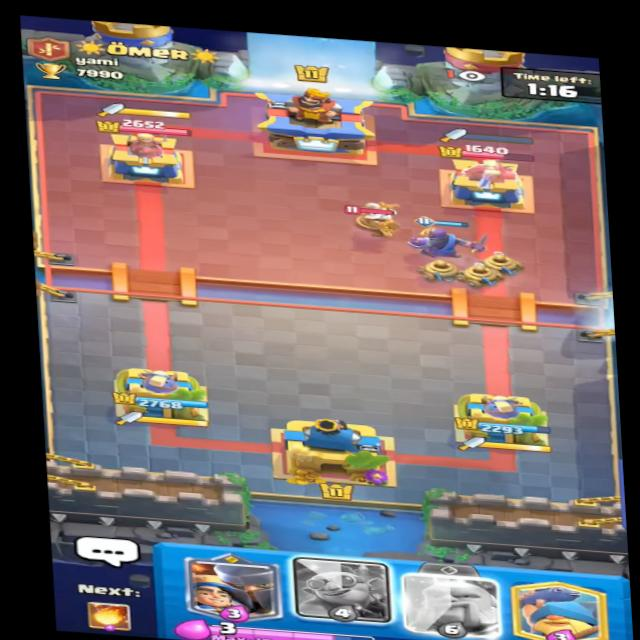monk: (335, 191, 423, 240)
